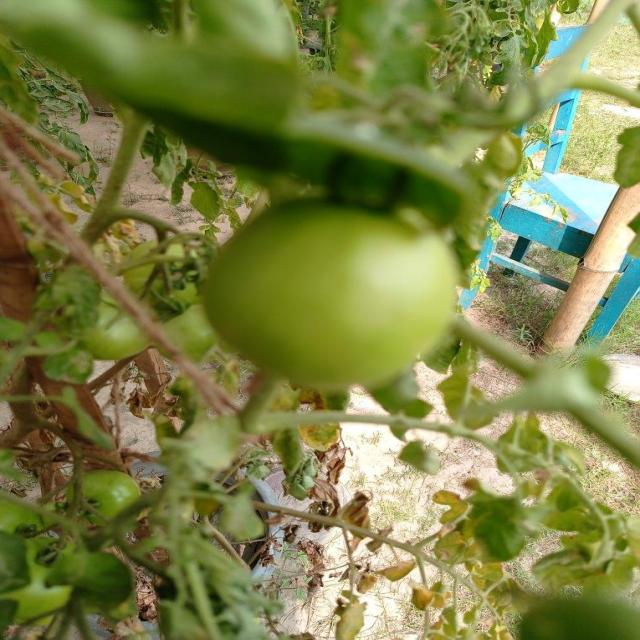Unripe: (200, 194, 458, 388)
